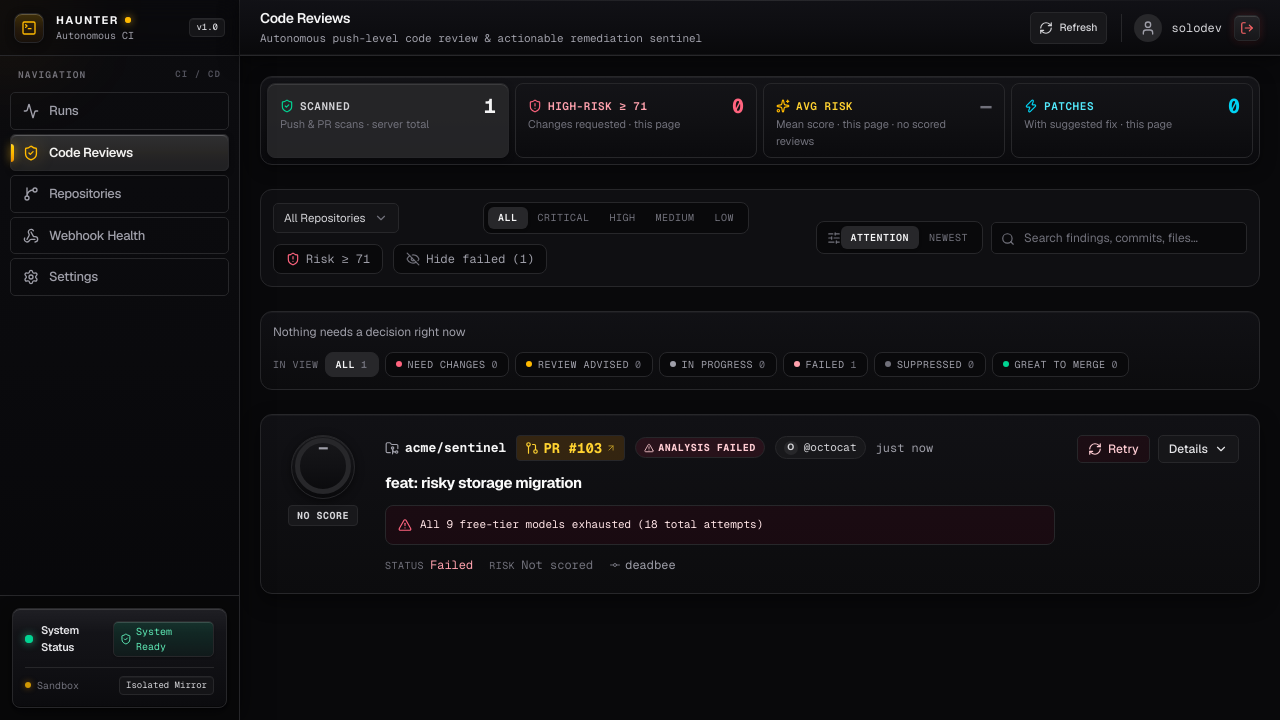
it: ReviewsPage (app/reviews/page.tsx) › failed analyses (honest error states) › shows an honest error panel with em-dash confidence for failed analyses in detail
Expected: the text "PR #103" is shown, [543,438,602,458]
Click the button with aria-label "expand error details": (1198, 449) [1158,435,1239,463]
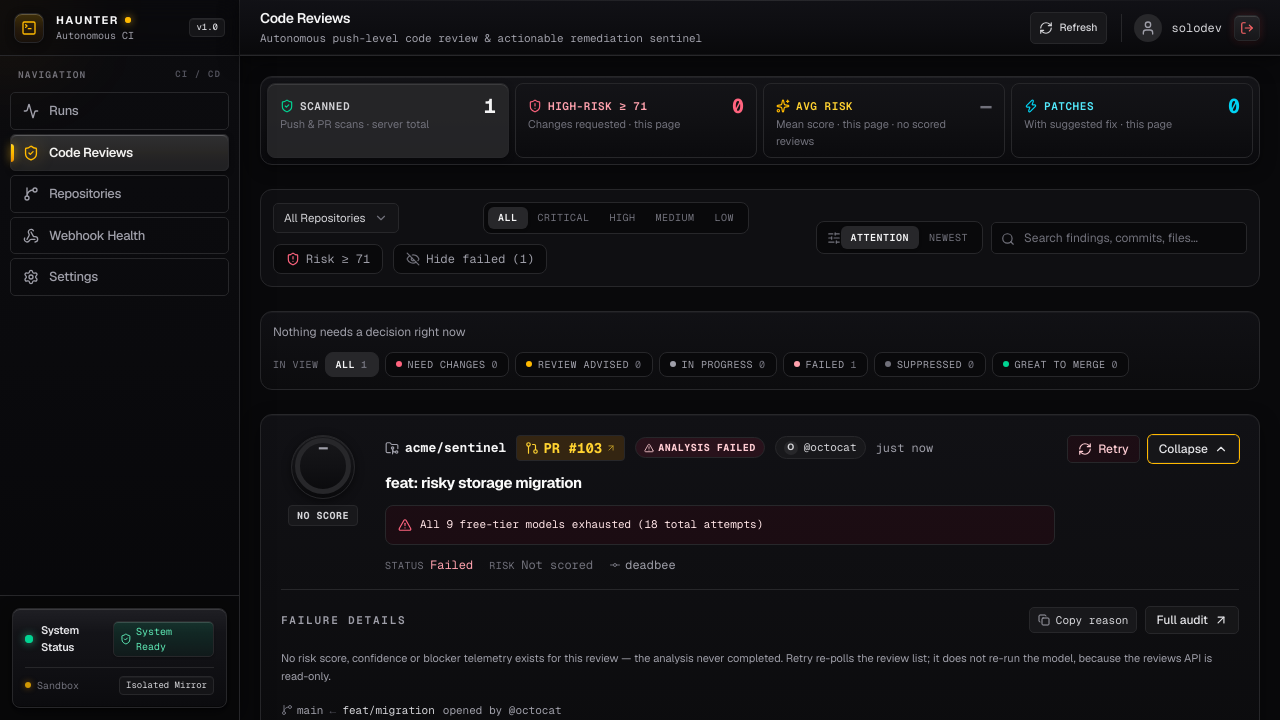
Click the button "Full audit": (1192, 620) [1145,606,1239,634]
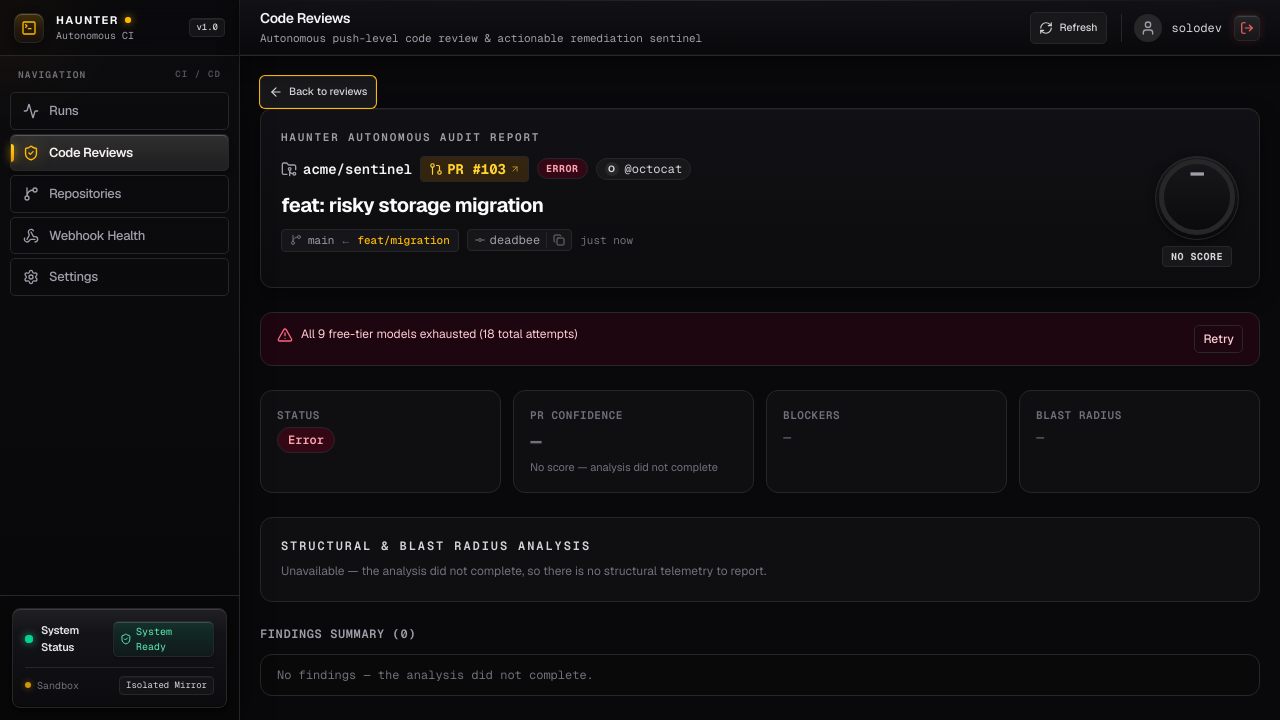
Expected: the message shows "free-tier models exhausted", [301,326,578,342]
Expected: the button "Changes requested" is gone
Expected: the text "Findings Summary (0)" is shown, [260,626,416,642]
